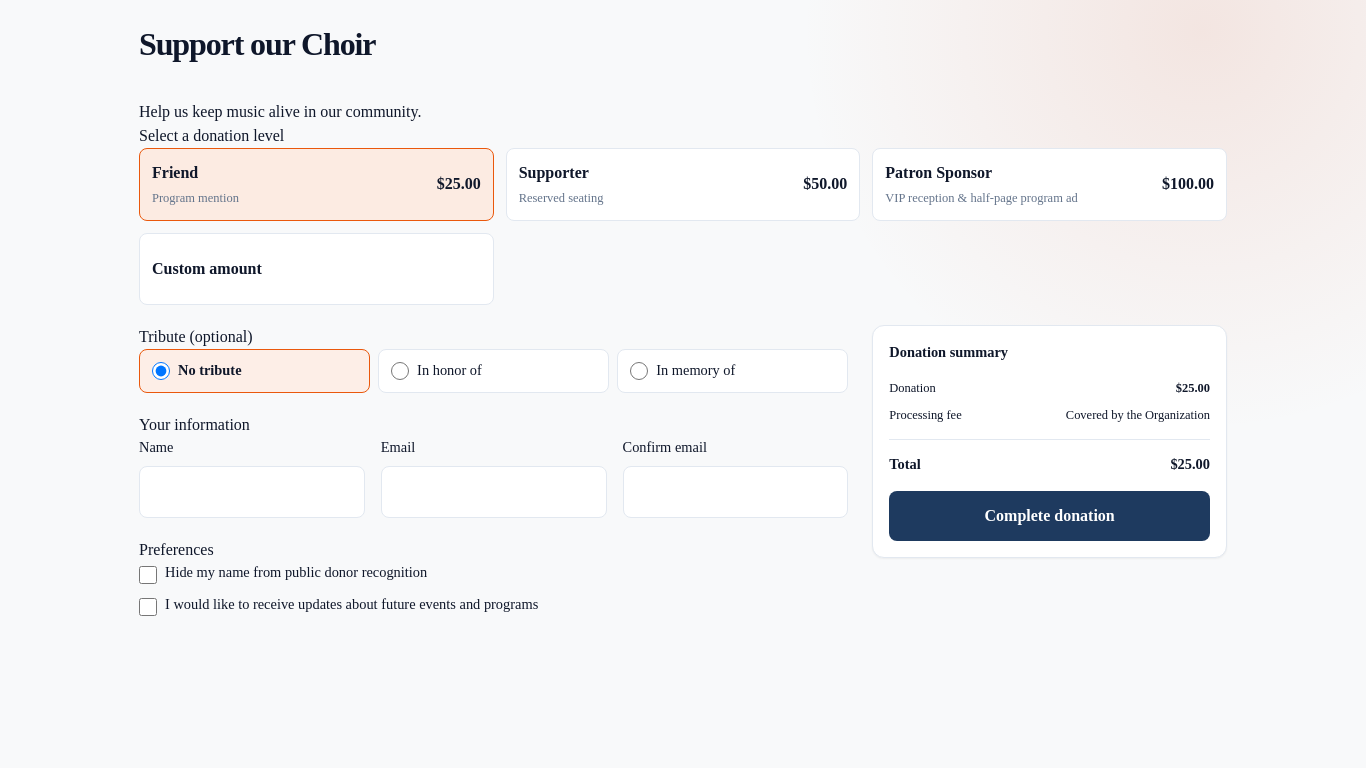
Test: PublicDonationView › validates email mismatch and displays safe error
Expected: the heading "Support our Choir" is shown, [139,26,375,62]
Type "Alex Donor" into the field labelled "Name". click: coordinates (252, 492)
box: [139,466,365,518]
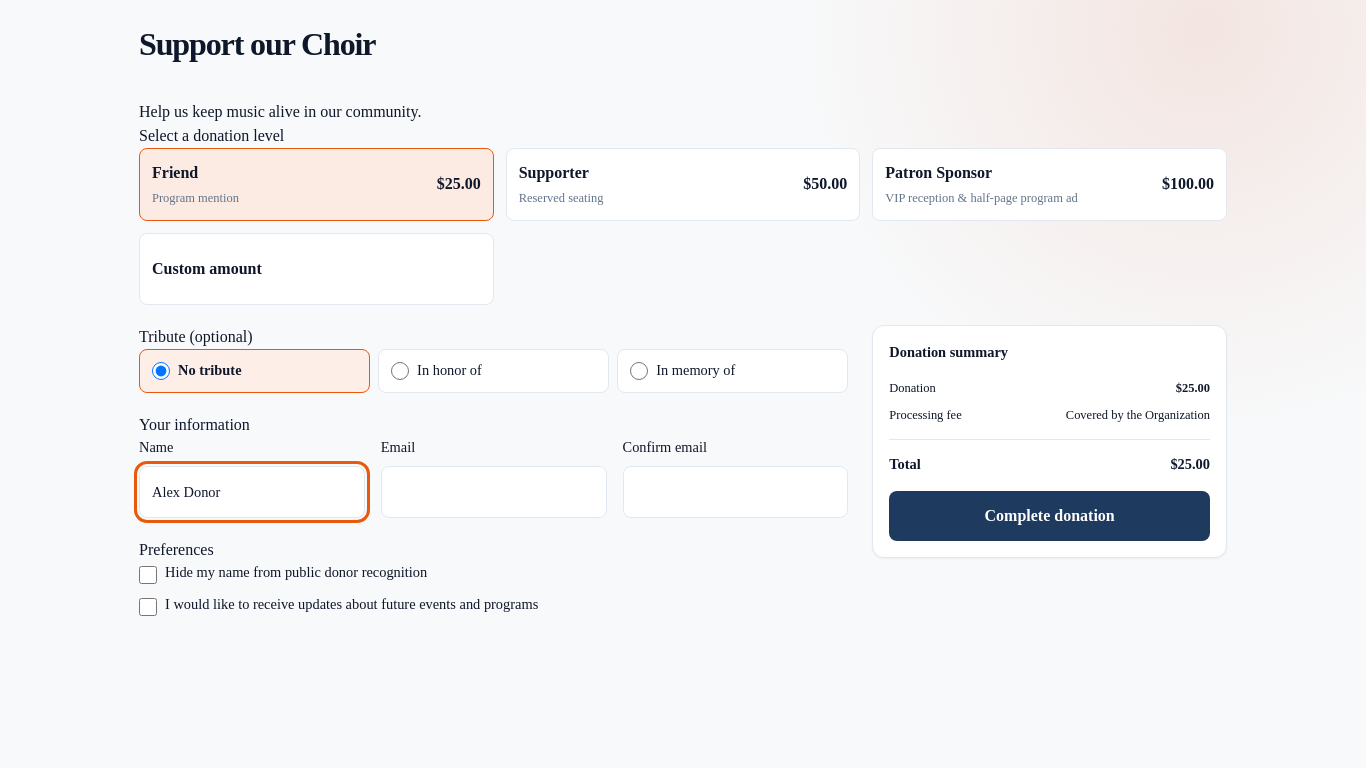
Type "alex@example.test" into the field labelled "Email". click: coordinates (494, 492)
box: [381,466,607,518]
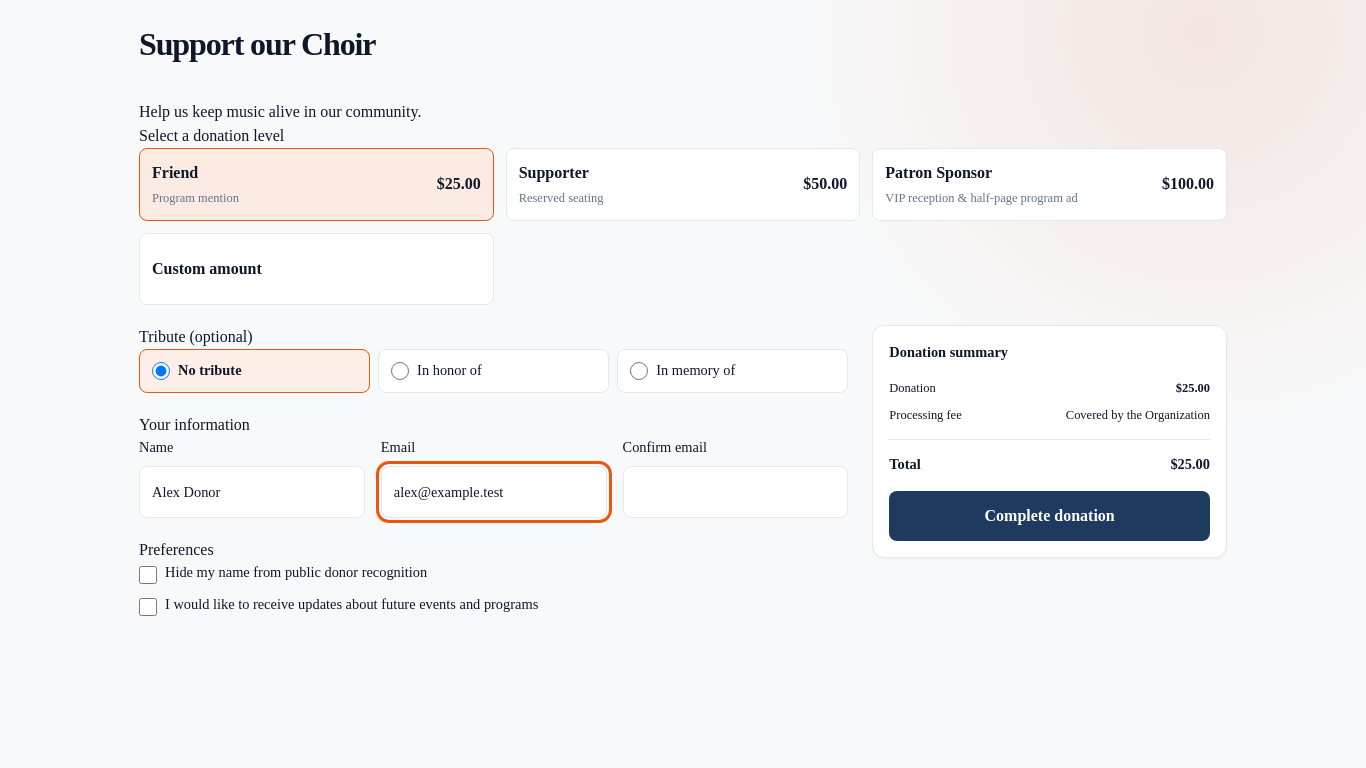
Type "different@example.test" into the field labelled "Confirm email". click: coordinates (735, 492)
box: [622,466,848,518]
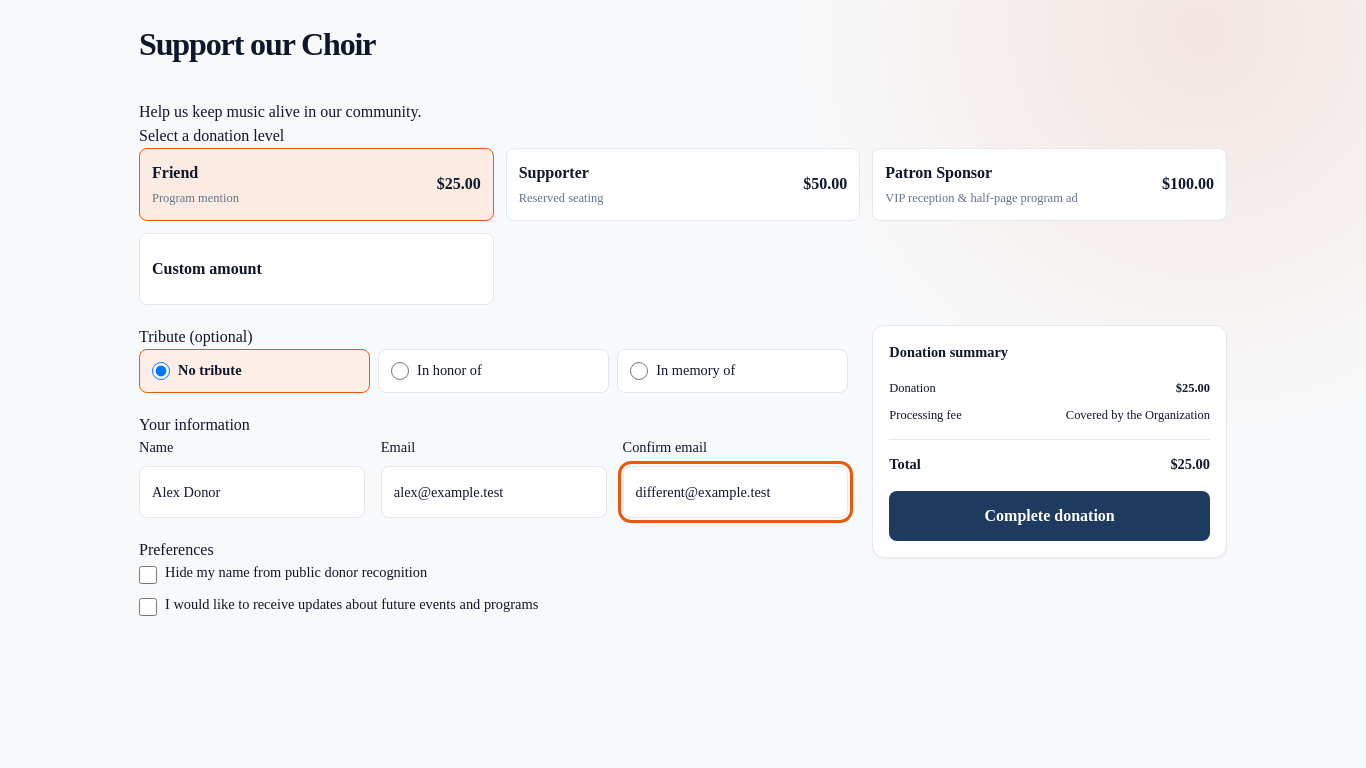
Click the button "Complete donation". click: coordinates (1050, 516)
box: [889,491,1210,541]
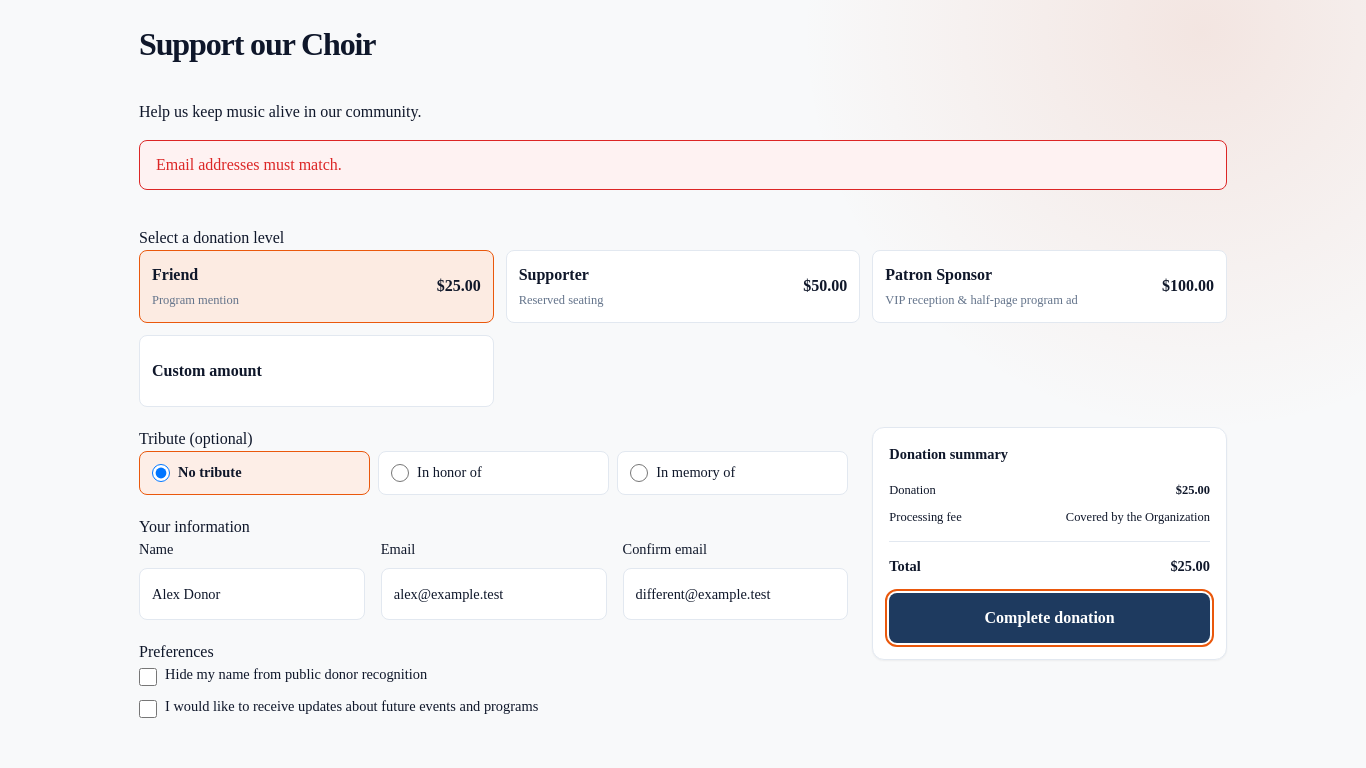
Expected: the message reads "Email addresses must match.", [156,156,342,173]
